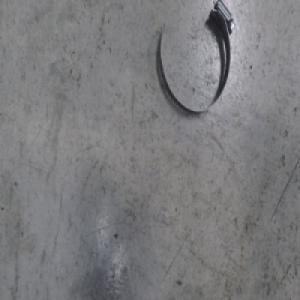AdjustableClamp: (159, 1, 238, 115)
